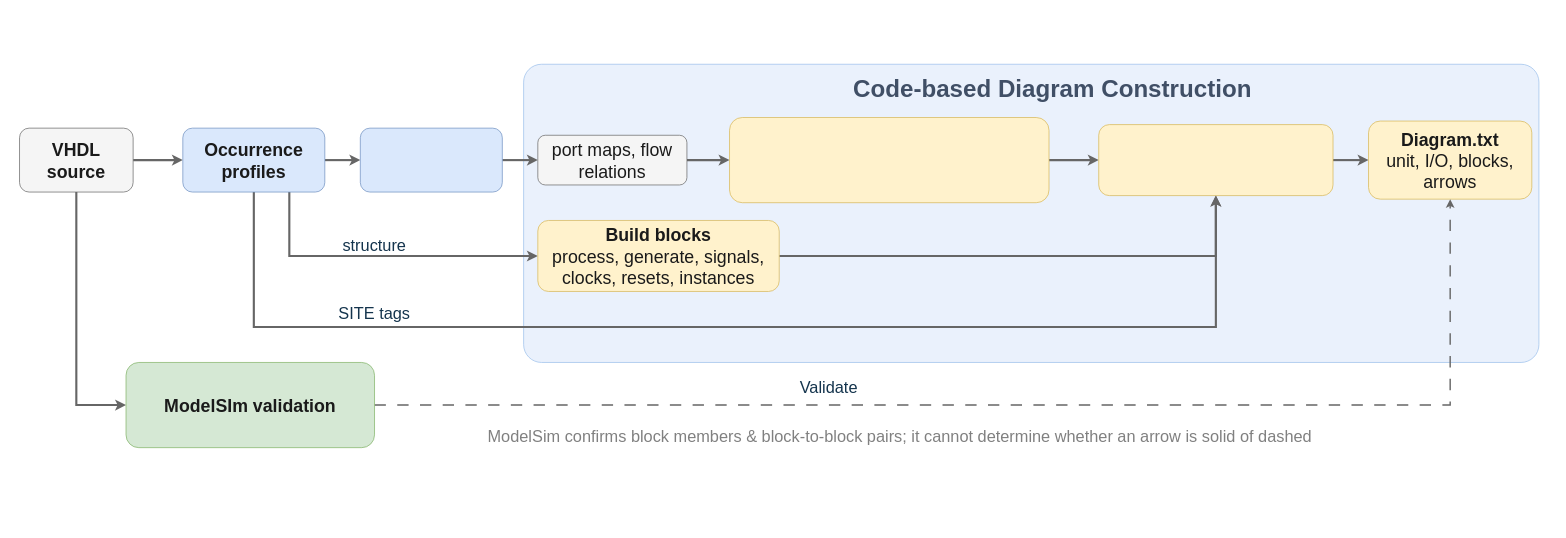
This 1566x538 diagram has some shape labels left out. Each missing label, with the centre of its shape:
Build arrows value flows: (1215,160)
Flow corrections process variable decisions: (889,160)
Relationship map: (431,159)
